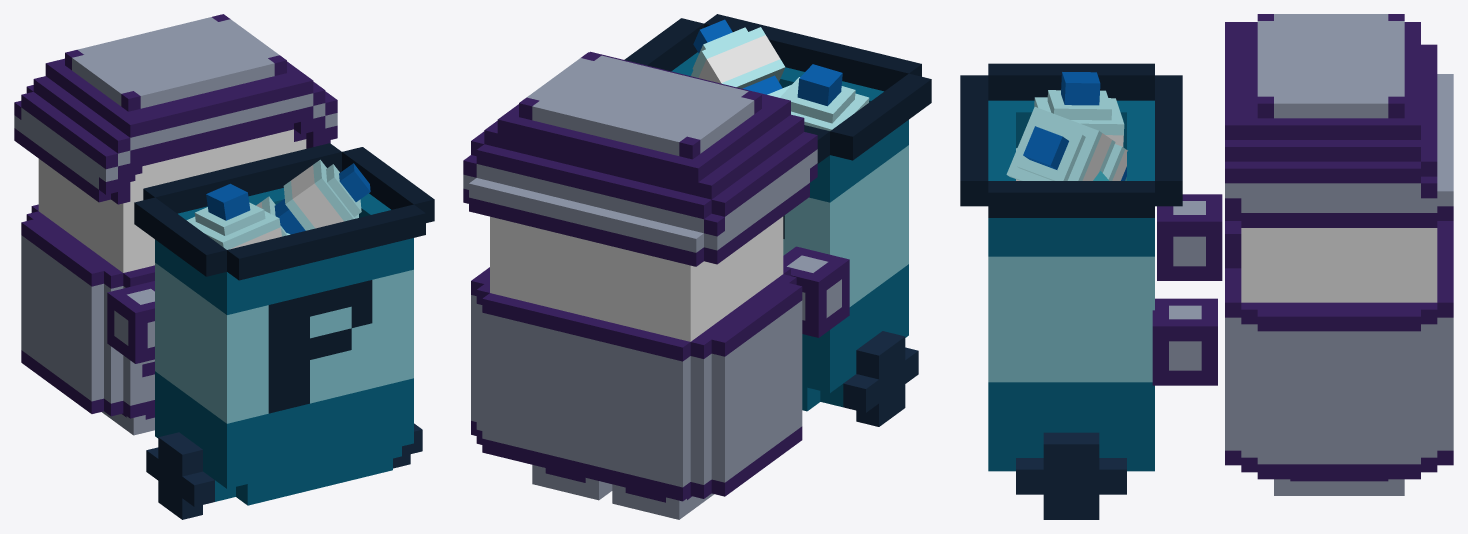
File: p3PlasConDizzy.gltf
3 renders of one model, left to right at view 1: azimuth 30°, elevation 25°; view 2: azimuth 150°, elevation 25°; view 3: azimuth 270°, elevation 25°, orthographic. The views are drawn at different scales.
Visible parts, largest first — view 1: Yup2Zup.001; view 2: Yup2Zup.001; view 3: Yup2Zup.001.
Boxes of the visible parts, <box> form: Yup2Zup.001: <box>14,14,434,519</box>; Yup2Zup.001: <box>463,14,931,519</box>; Yup2Zup.001: <box>960,14,1453,519</box>.
Bounding box in the file's own units: 1.93 × 2.7 × 3.02.
Materials: 7 (7 with a texture image).
